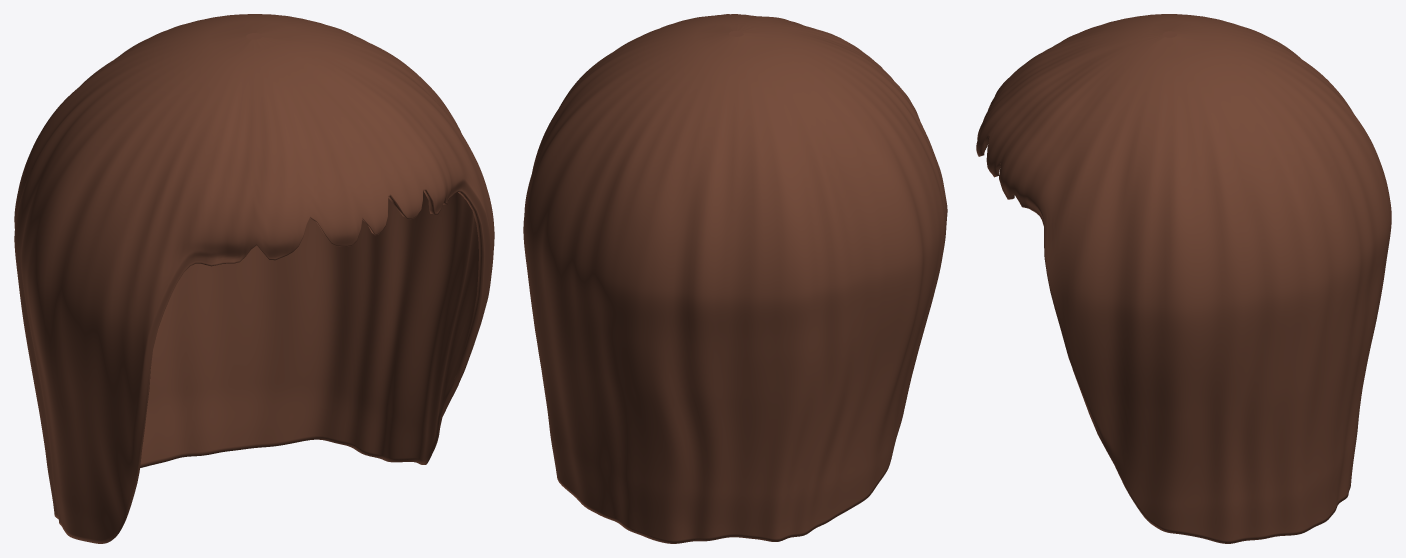
Rendered from fringe.glb.
3 views of the same model, side by side, from view 1: azimuth 30°, elevation 25°; view 2: azimuth 150°, elevation 25°; view 3: azimuth 270°, elevation 25° (orthographic). The views are drawn at different scales.
Parts seen in each view (by area): view 1: Hair / soft brow fringe; view 2: Hair / soft brow fringe; view 3: Hair / soft brow fringe.
Boxes of the visible parts, <box> form: Hair / soft brow fringe: <box>14,14,494,543</box>; Hair / soft brow fringe: <box>523,14,947,543</box>; Hair / soft brow fringe: <box>976,14,1391,543</box>.
Bounding box in the file's own units: 0.8516 × 0.9551 × 0.7921.
